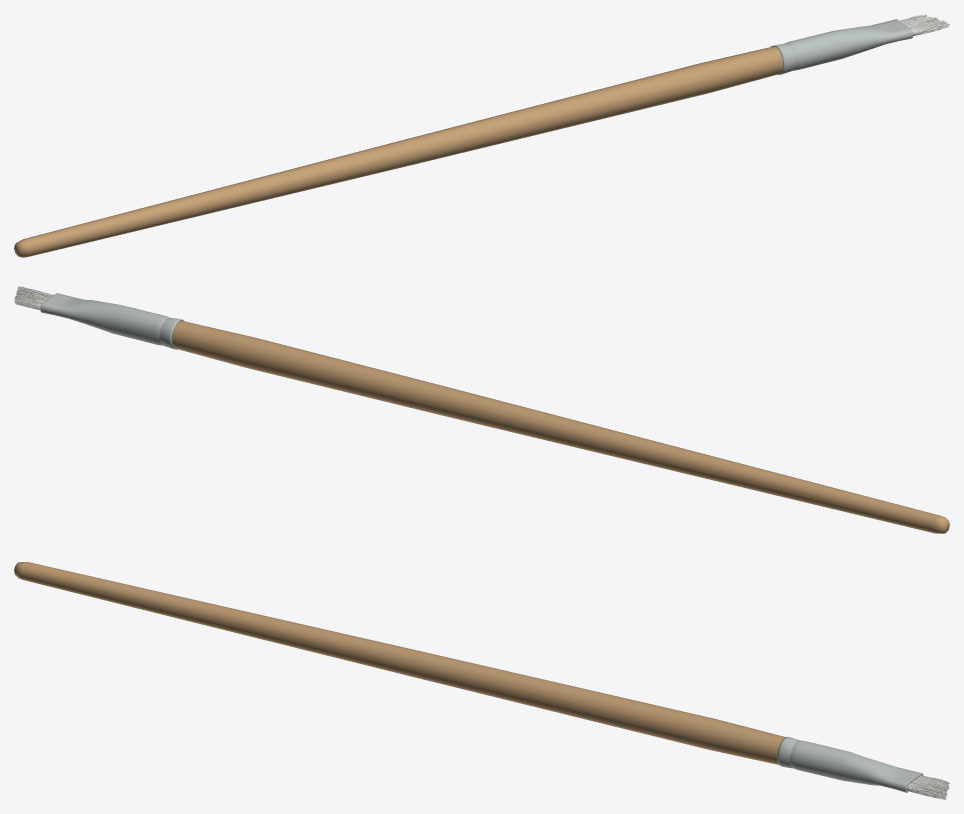
File: paint_supplies_brush_a11.glb
The picture shows the model from 3 angles, top to bottom: view 1: azimuth 30°, elevation 25°; view 2: azimuth 150°, elevation 25°; view 3: azimuth 330°, elevation 25°; orthographic projection.
Bounding box in the file's own units: 0.2396 × 0.00707 × 0.00788.
